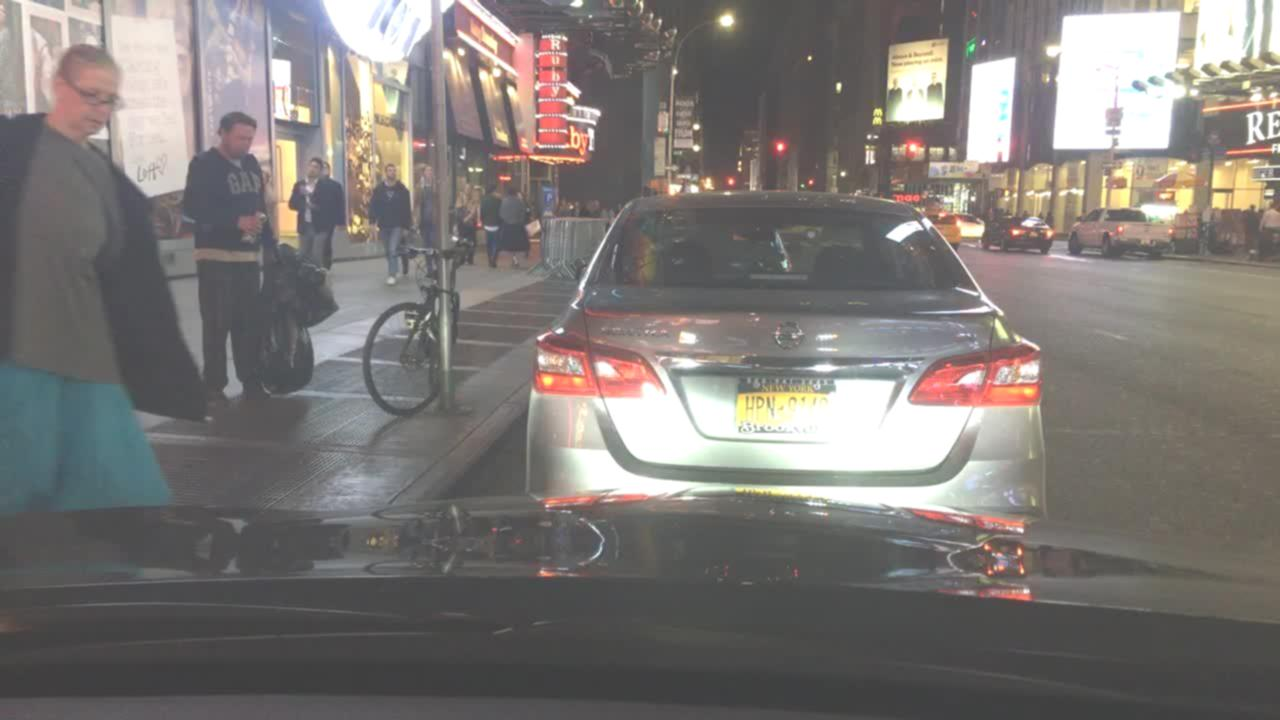Nissan: (768, 320, 812, 354)
